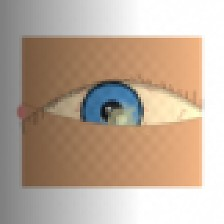corneal_ulcer: (99, 104, 143, 139)
